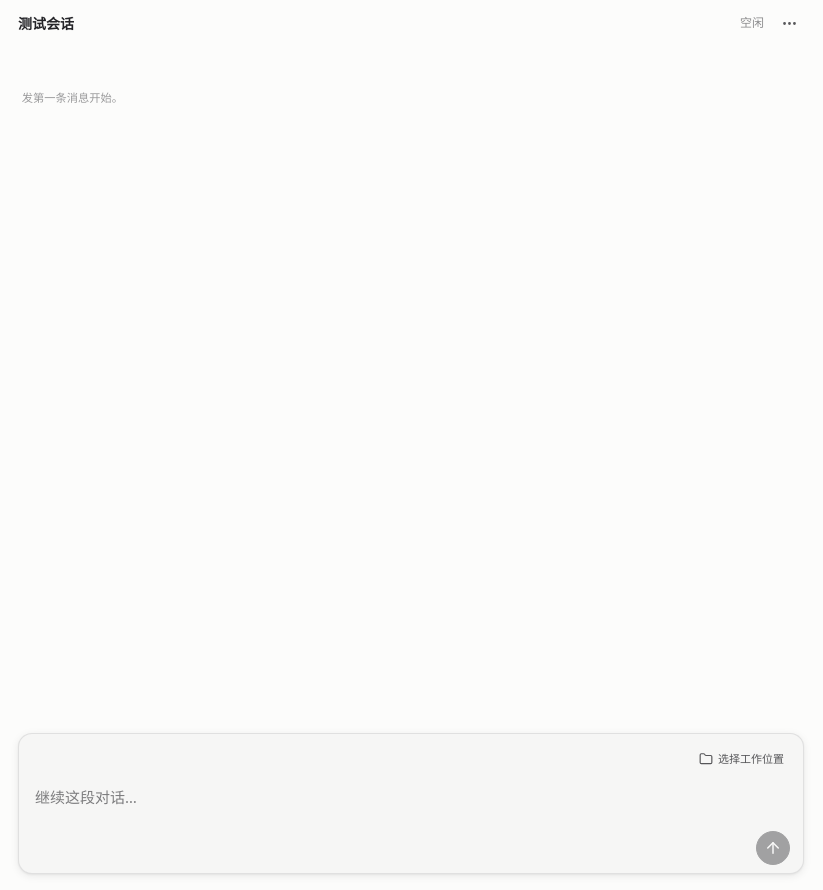
Test: 引擎没接下的那一句（R6 / R7） › 409 turn_already_running：按错误码显示短状态，不拼接旧诊断文案
Type "再来一句" into the text box named "消息" at x=411, y=805, box [35, 783, 787, 827]
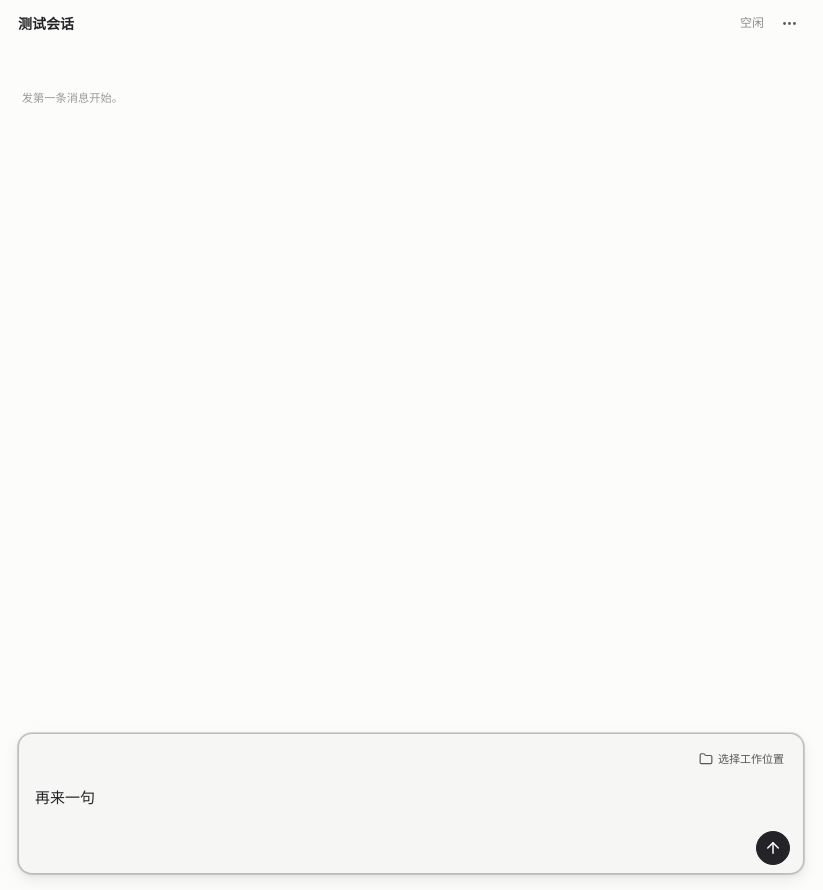
Click the button named "发送" at x=773, y=848, box [756, 831, 790, 865]
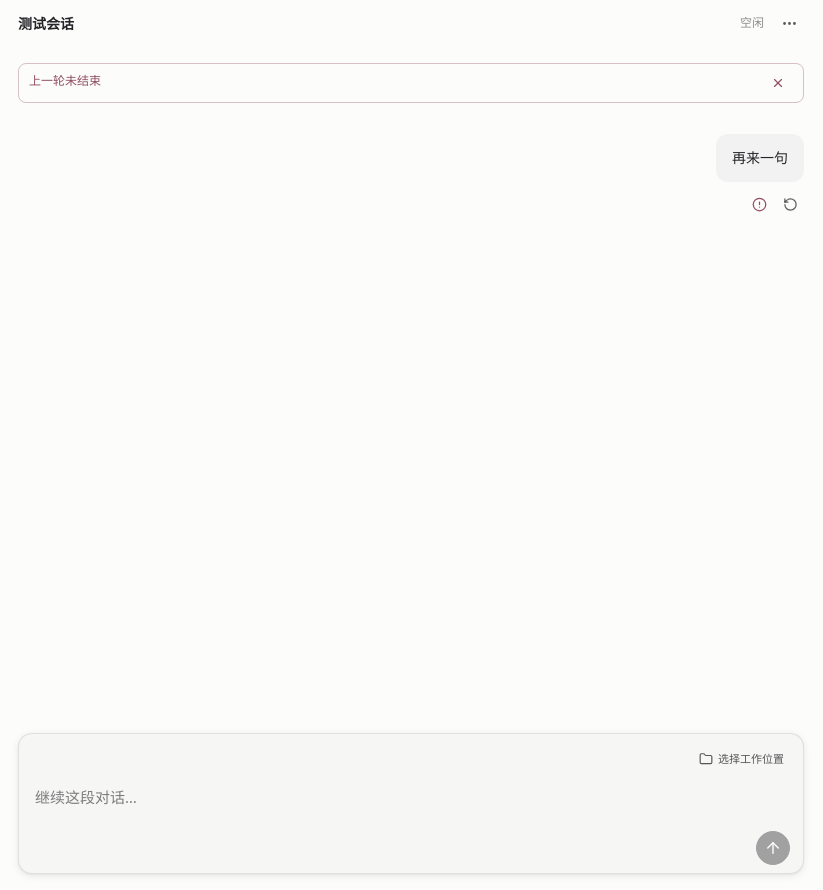
Now the text "上一轮未结束" is shown, box [18, 63, 804, 103]
